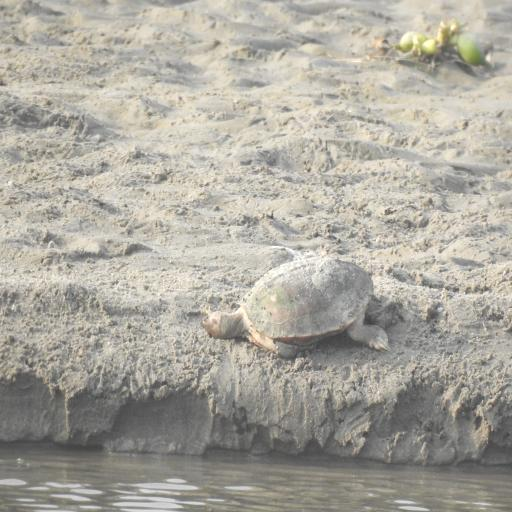turtle: (203, 259, 393, 359)
